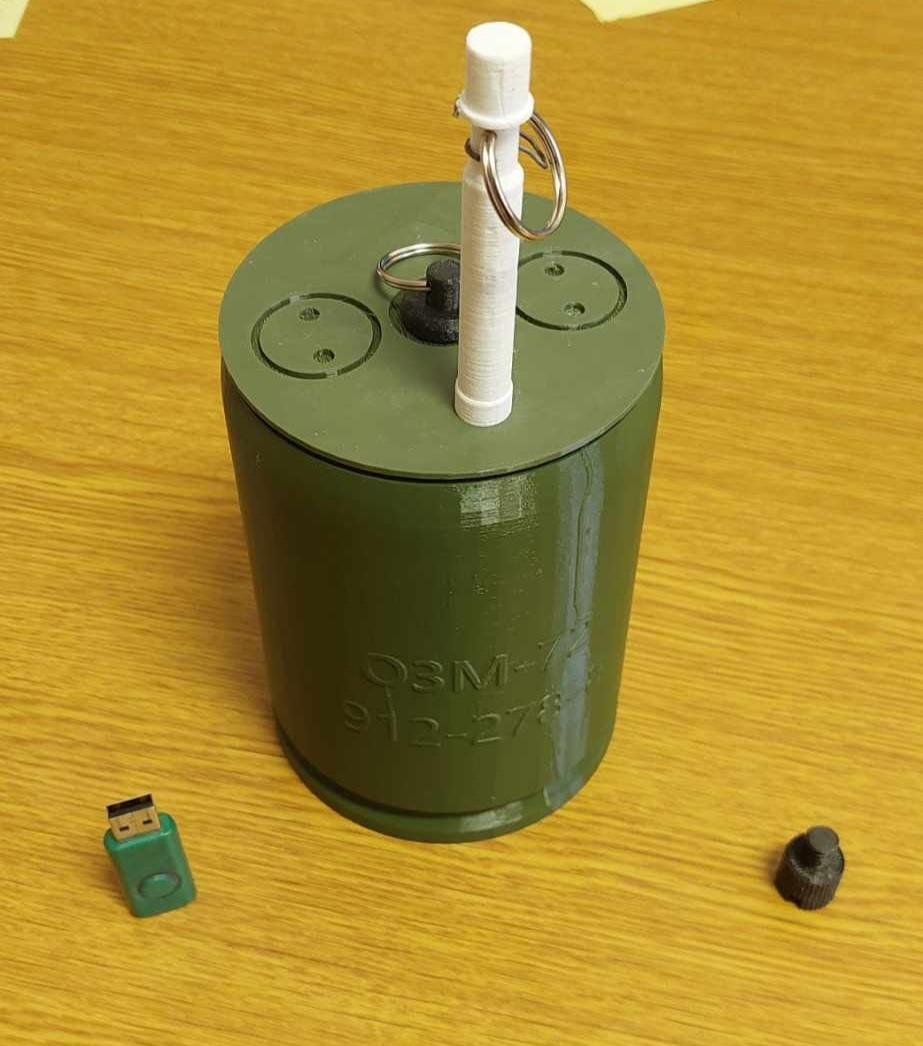OZM 72: (220, 15, 666, 846)
